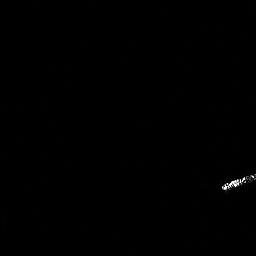ship: (218, 171, 256, 194)
